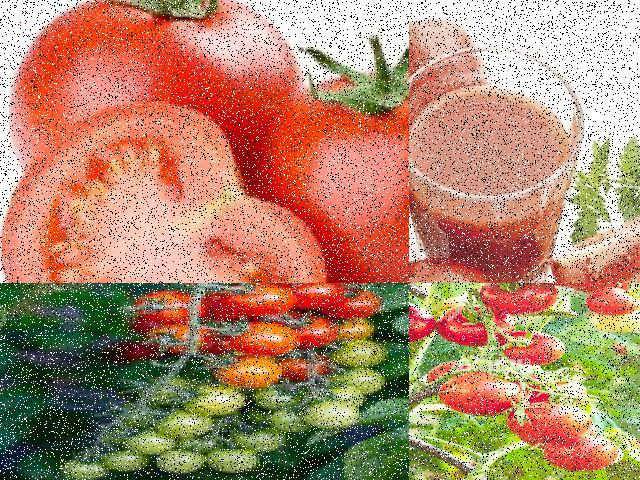tomato: (9, 0, 287, 238), (263, 68, 408, 282), (105, 286, 216, 322), (435, 370, 528, 412), (508, 400, 590, 442), (212, 283, 305, 318), (434, 306, 514, 346), (543, 438, 629, 474), (409, 4, 472, 53), (480, 283, 568, 314), (234, 326, 315, 359), (504, 332, 566, 372), (573, 291, 639, 316), (289, 283, 341, 311), (409, 301, 440, 347)
